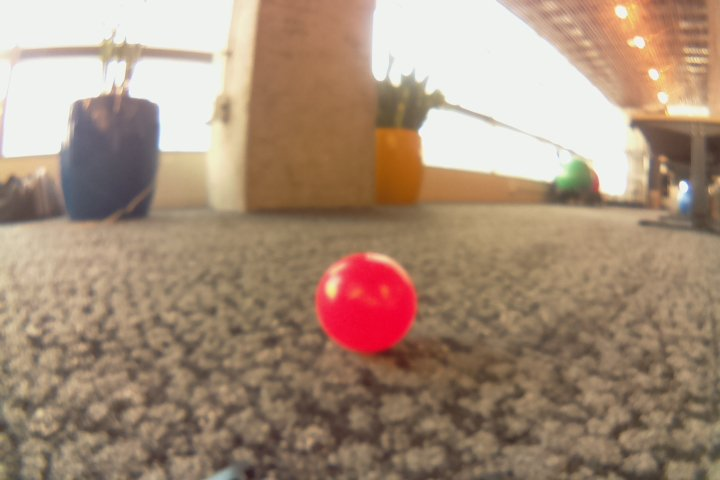ball: (311, 250, 419, 358)
